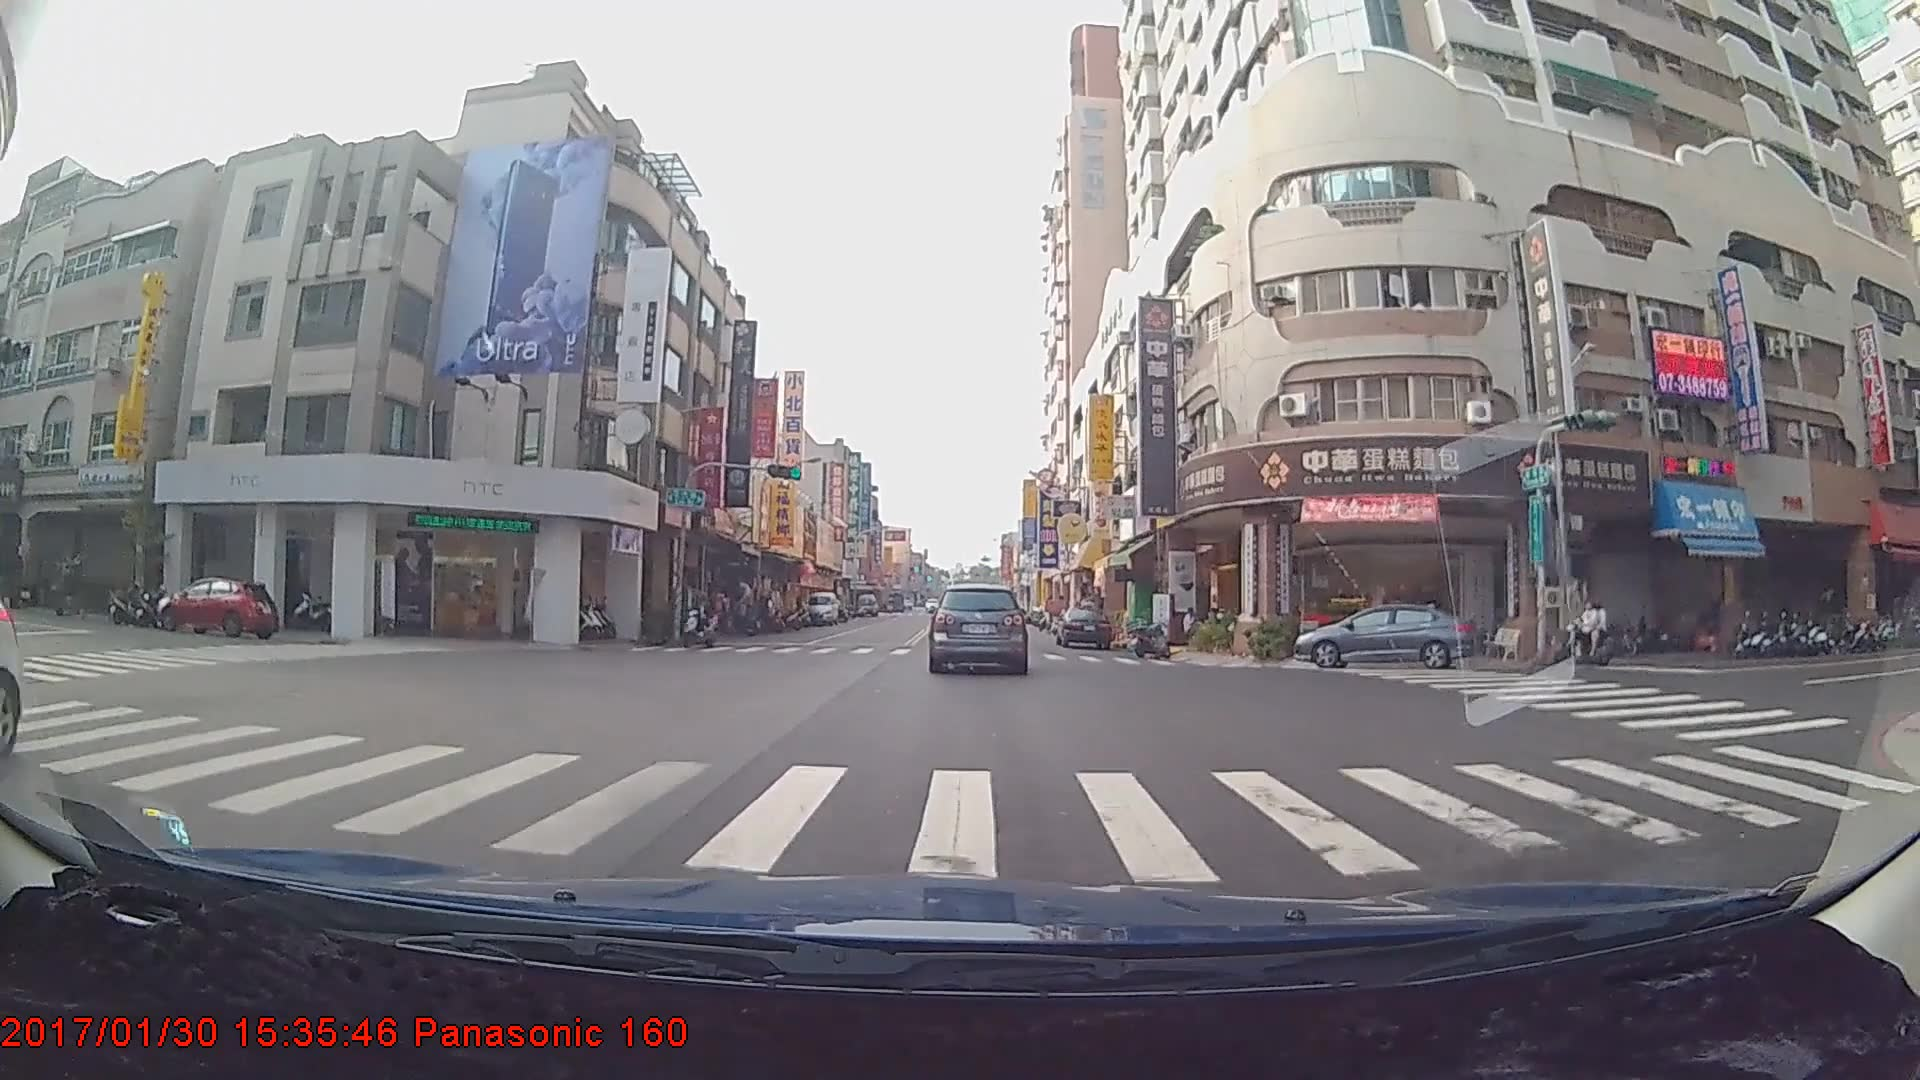rider: (1562, 593, 1622, 660), (679, 582, 720, 643)
vehicle: (1292, 599, 1469, 665), (928, 584, 1026, 674), (157, 574, 277, 640), (1054, 601, 1111, 647), (802, 589, 840, 623), (854, 591, 878, 615)
